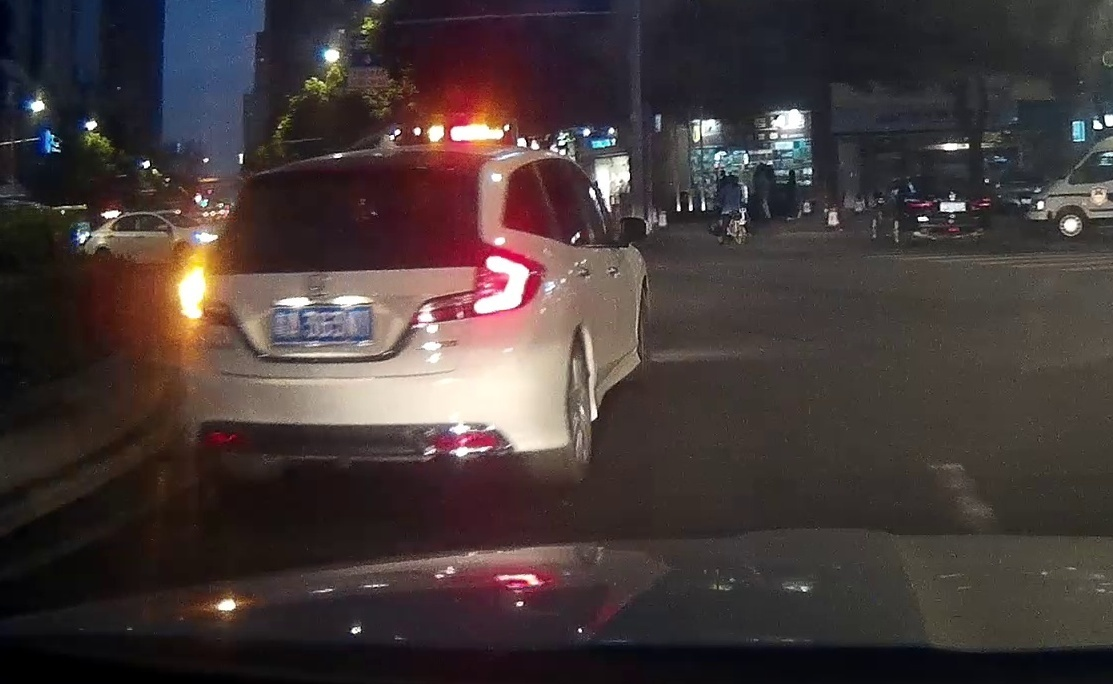L_light: (179, 263, 238, 327), (904, 198, 935, 210)
R_light: (409, 247, 547, 324), (968, 197, 992, 209)
T_light: (331, 168, 379, 179), (932, 177, 948, 180)
night-left: (179, 142, 547, 491)
night-no: (902, 175, 993, 246)
